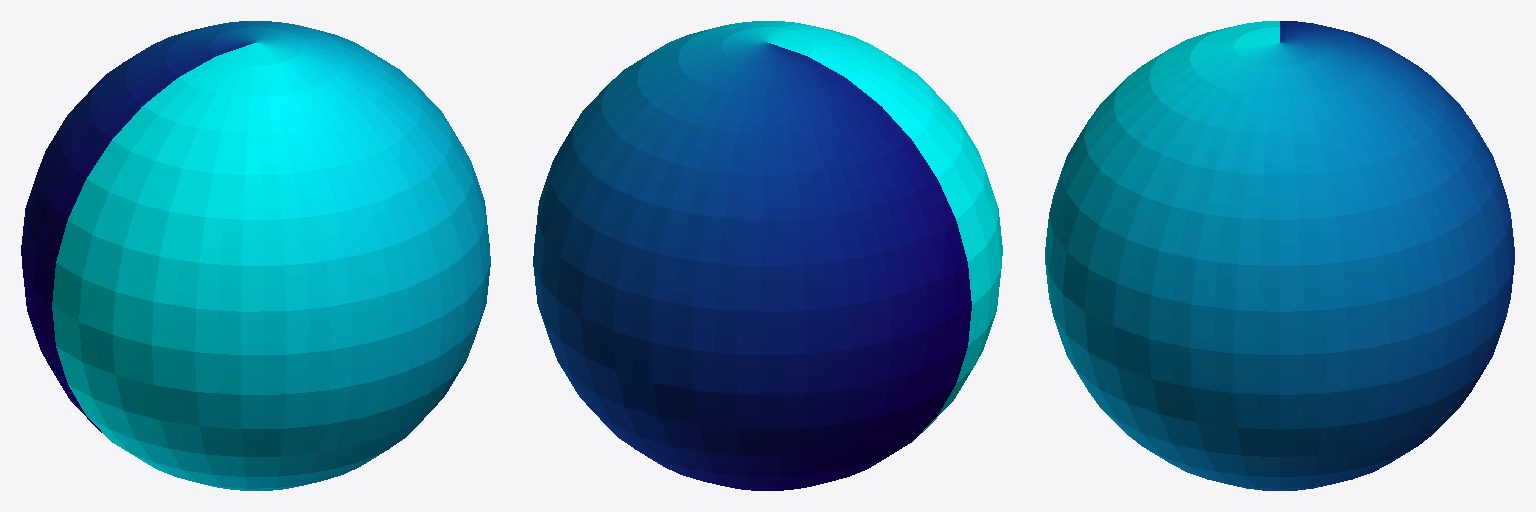
3 renders of one model, left to right at view 1: azimuth 30°, elevation 25°; view 2: azimuth 150°, elevation 25°; view 3: azimuth 270°, elevation 25°, orthographic.
Parts seen in each view (by area): view 1: 球; view 2: 球; view 3: 球.
Boxes of the visible parts, box(x1,y1,x2,y2) form: 球: box(21, 21, 490, 490); 球: box(533, 21, 1002, 490); 球: box(1045, 21, 1514, 490).
Bounding box in the file's own units: 1.6 × 1.6 × 1.6.
Materials: 1 (1 with a texture image).